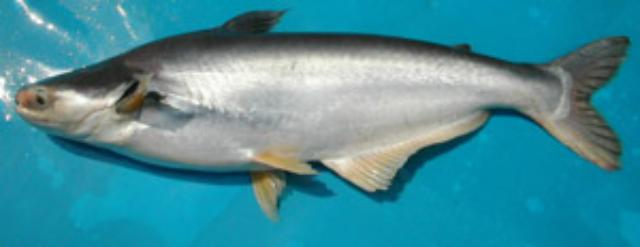Mulut: (0, 69, 56, 143)
Sirip Anal: (318, 104, 498, 212)
Sirip Dada: (96, 66, 172, 136)
Sirip Ekor: (524, 29, 638, 177)
Sirip Perut: (234, 138, 326, 234)
Sirip Punggung: (214, 4, 486, 62)
